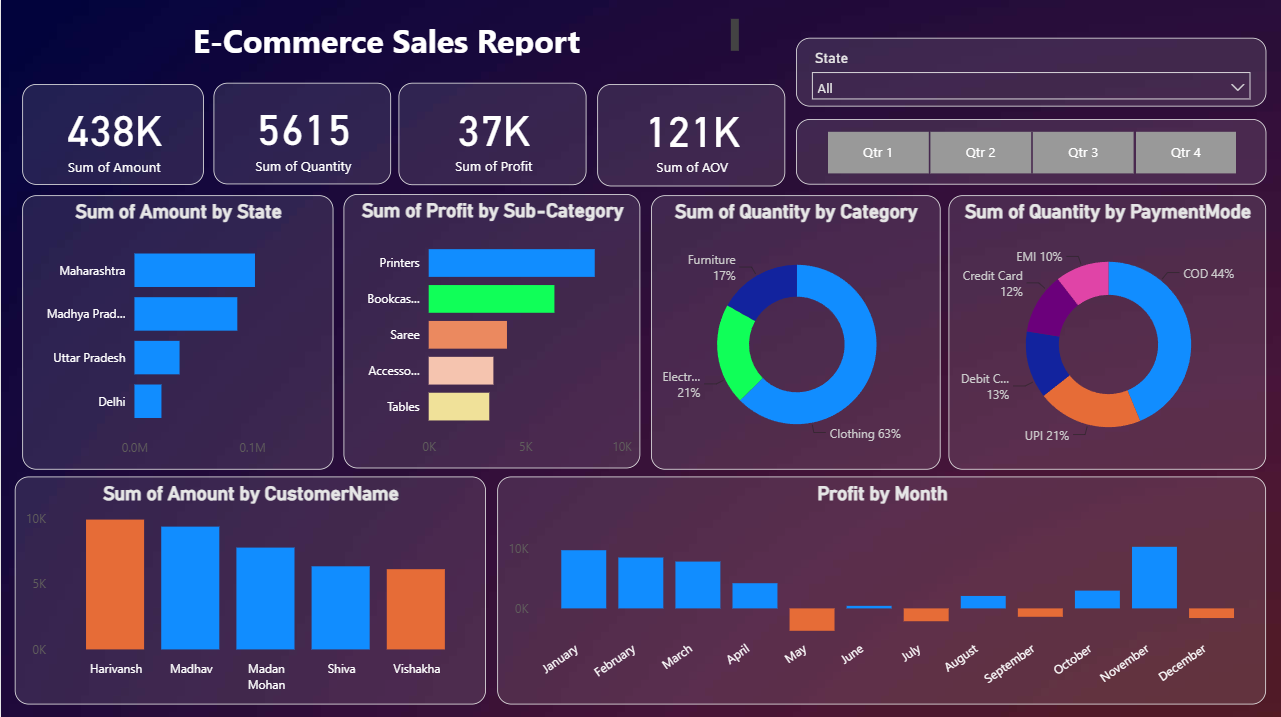

This screenshot's page, from the dashboard's own definition file:
{"tool":"powerbi","page":{"name":"Page 1","canvas":[1280,720],"ordinal":0},"visuals":[{"type":"textbox","box":[35.7,14.8,706.5,46.8],"z":0},{"type":"columnChart","title":"Profit by Month","fields":{"Category":["Orders.Order Date.Variation.Date Hierarchy.Month"],"Y":["Sum(Details.Profit)"]},"box":[495.6,477.8,769.1,227.7],"z":1000},{"type":"barChart","fields":{"Category":["Details.Sub-Category"],"Y":["Sum(Details.Profit)"]},"box":[342.7,195.3,296.9,274.6],"z":2000},{"type":"donutChart","fields":{"Category":["Details.Category"],"Y":["Sum(Details.Quantity)"]},"box":[649.8,195.7,289.2,274.5],"z":3000},{"type":"donutChart","fields":{"Category":["Details.PaymentMode"],"Y":["Sum(Details.Quantity)"]},"box":[947.7,195.7,317.5,274.5],"z":4000},{"type":"card","fields":{"Values":["Sum(Details.Amount)"]},"box":[21.2,84.8,182,100.5],"z":5000},{"type":"card","fields":{"Values":["Sum(Details.Quantity)"]},"box":[212.1,83.7,177.5,101.6],"z":6000},{"type":"card","fields":{"Values":["Sum(Details.Profit)"]},"box":[397.5,83.7,188.3,102.2],"z":7000},{"type":"card","fields":{"Values":["Sum(Details.AOV)"]},"box":[595.7,84.9,188,102.2],"z":8000},{"type":"barChart","fields":{"Category":["Orders.State"],"Y":["Sum(Details.Amount)"]},"box":[20.9,195.7,311.4,274.5],"z":9000},{"type":"columnChart","fields":{"Category":["Orders.CustomerName"],"Y":["Sum(Details.Amount)"]},"box":[13.4,477.8,471.1,227.7],"z":10000},{"type":"slicer","fields":{"Values":["Orders.Order Date.Variation.Date Hierarchy.Quarter"]},"box":[795.1,120.6,470.2,65.2],"z":11000},{"type":"slicer","fields":{"Values":["Orders.State"]},"box":[795.1,38.2,470.2,68.9],"z":12000}]}

Visuals, with their boxes in screenshot pixels (x1, y1, x2, y2), scaled from the page's 1280x720 canvas onto the 1281x717 screenshot:
textbox: bbox(36, 15, 743, 61)
"Profit by Month" columnChart: bbox(496, 476, 1266, 703)
barChart - Details.Sub-Category x Sum(Details.Profit): bbox(343, 194, 640, 468)
donutChart - Details.Category x Sum(Details.Quantity): bbox(650, 195, 940, 468)
donutChart - Details.PaymentMode x Sum(Details.Quantity): bbox(948, 195, 1266, 468)
card - Sum(Details.Amount): bbox(21, 84, 203, 185)
card - Sum(Details.Quantity): bbox(212, 83, 390, 185)
card - Sum(Details.Profit): bbox(398, 83, 586, 185)
card - Sum(Details.AOV): bbox(596, 85, 784, 186)
barChart - Orders.State x Sum(Details.Amount): bbox(21, 195, 333, 468)
columnChart - Orders.CustomerName x Sum(Details.Amount): bbox(13, 476, 485, 703)
slicer - Orders.Order Date.Variation.Date Hierarchy.Quarter: bbox(796, 120, 1266, 185)
slicer - Orders.State: bbox(796, 38, 1266, 107)
